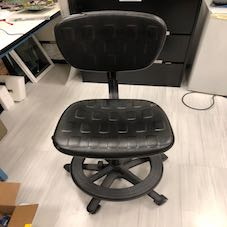chair: (33, 7, 198, 215)
